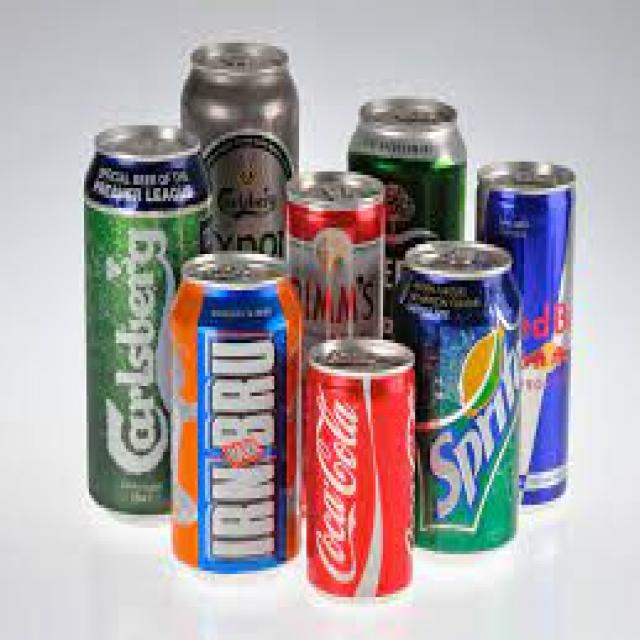Lata: (84, 40, 581, 609)
